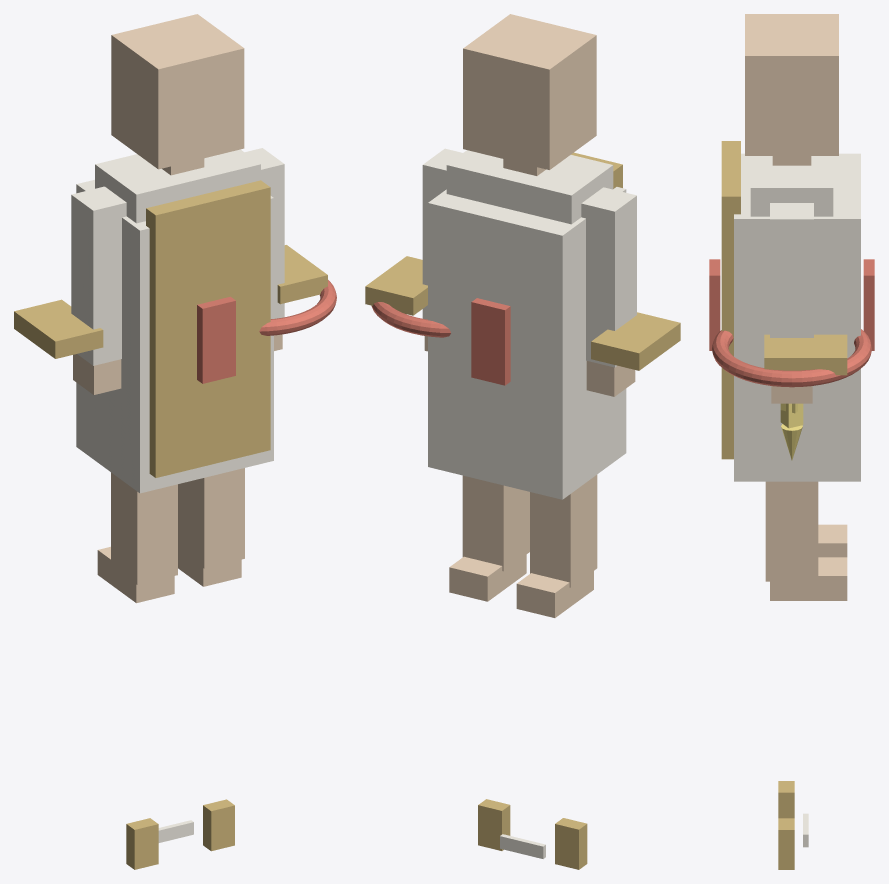
File: zeus.glb
3 renders of one model, left to right at view 1: azimuth 30°, elevation 25°; view 2: azimuth 150°, elevation 25°; view 3: azimuth 270°, elevation 25°, orthographic.
Parts seen in each view (by area): view 1: outfit_cloak_0, head, outfit_tunic_0, arm_L_upper, leg_L_shin, torso, leg_R_shin, outfit_armor_2, outfit_armor_4, arm_R_upper, outfit_armor_1, leg_L_foot (+5 smaller); view 2: outfit_tunic_0, head, torso, arm_L_upper, leg_L_shin, leg_R_shin, outfit_armor_2, outfit_armor_3, outfit_armor_1, leg_R_foot, leg_L_foot, arm_R_upper (+5 smaller); view 3: outfit_tunic_0, head, arm_R_upper, leg_R_shin, outfit_cloak_0, torso, prop, outfit_armor_1, leg_R_foot, leg_L_foot, outfit_armor_3, outfit_armor_4 (+4 smaller).
Boxes of the visible parts, x1,y1,x2,y2 form: outfit_cloak_0: (146, 180, 270, 477); head: (111, 14, 244, 169); outfit_tunic_0: (76, 179, 273, 493); arm_L_upper: (71, 186, 126, 365); leg_L_shin: (111, 472, 177, 584); torso: (95, 149, 260, 223); leg_R_shin: (178, 468, 244, 568); outfit_armor_2: (14, 299, 103, 358); outfit_armor_4: (197, 296, 235, 383); arm_R_upper: (245, 148, 284, 318); outfit_armor_1: (277, 245, 327, 304); leg_L_foot: (97, 546, 174, 603); outfit_tunic_0: (428, 187, 626, 499); head: (463, 14, 596, 169); torso: (446, 150, 613, 224); arm_L_upper: (581, 187, 636, 367); leg_L_shin: (530, 475, 597, 587); leg_R_shin: (462, 475, 529, 571); outfit_armor_2: (591, 312, 680, 370); outfit_armor_3: (471, 298, 510, 385); outfit_armor_1: (365, 256, 427, 315); leg_R_foot: (449, 554, 526, 601); leg_L_foot: (516, 571, 593, 617); arm_R_upper: (422, 148, 462, 319); outfit_tunic_0: (734, 153, 860, 481); head: (745, 14, 838, 155); arm_R_upper: (770, 203, 813, 337); leg_R_shin: (765, 481, 818, 581); outfit_cloak_0: (721, 141, 740, 459); torso: (750, 156, 833, 216); prop: (712, 329, 871, 460); outfit_armor_1: (764, 334, 847, 375); leg_R_foot: (770, 557, 847, 600); leg_L_foot: (818, 524, 847, 557); outfit_armor_3: (863, 259, 874, 350); outfit_armor_4: (709, 259, 720, 350).
Size of the model in its own units: 1.19 by 3.24 by 0.6.
